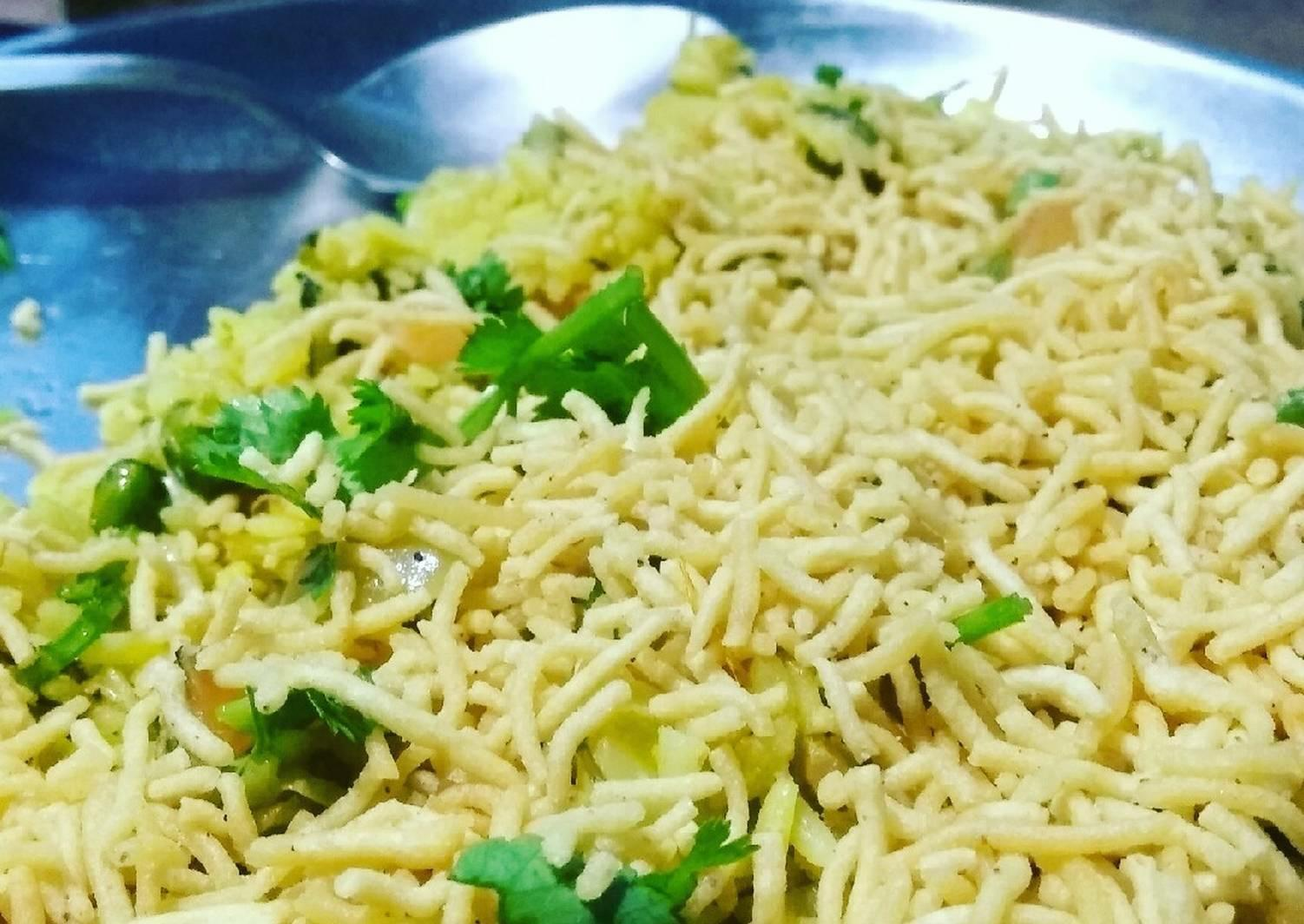Poha: (0, 22, 1304, 924)
